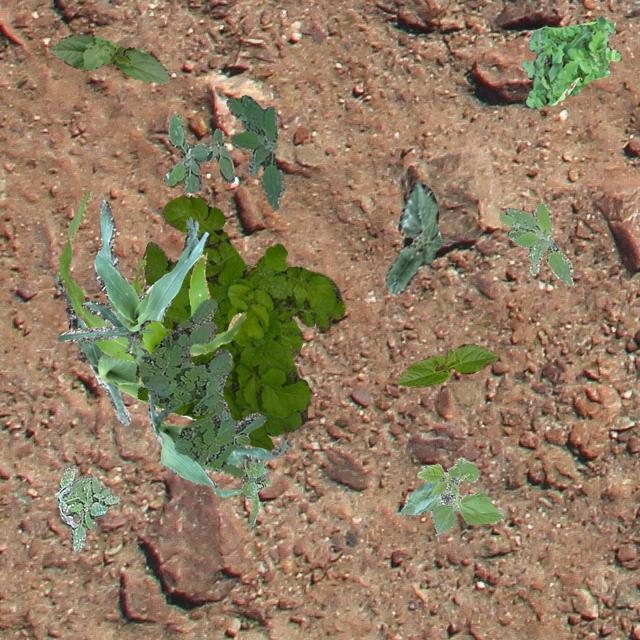crop: (58, 190, 244, 383), (56, 198, 208, 366), (53, 272, 195, 424), (147, 391, 289, 496), (399, 456, 504, 534), (384, 182, 440, 294), (48, 32, 170, 82), (394, 342, 498, 387)
weed: (134, 195, 343, 450), (138, 298, 264, 477), (520, 15, 620, 109), (226, 94, 284, 208), (498, 202, 572, 284), (54, 464, 120, 550), (162, 114, 234, 192), (240, 458, 270, 526)
